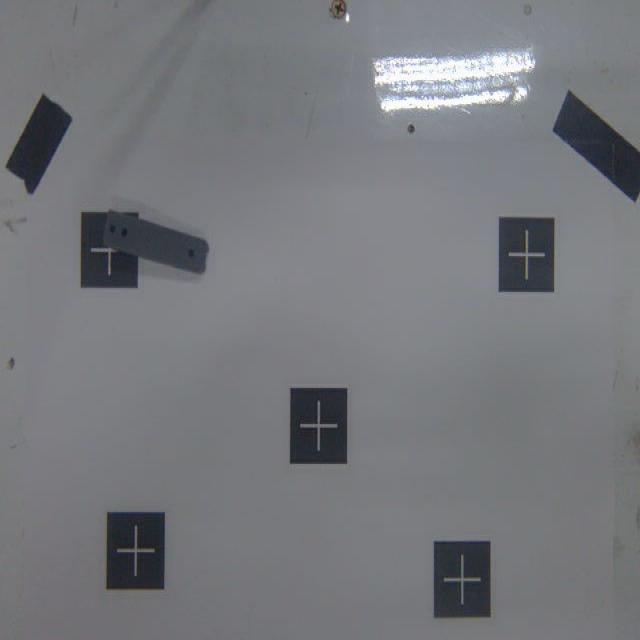dot: (107, 514, 166, 590), (291, 386, 348, 464), (434, 540, 489, 620), (499, 216, 555, 294), (81, 214, 139, 289)
